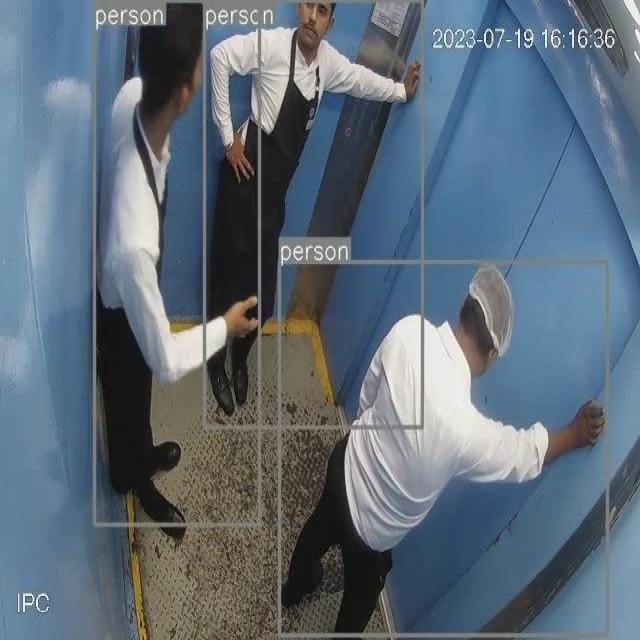person: (279, 262, 609, 638), (205, 7, 424, 428), (92, 1, 259, 527)
